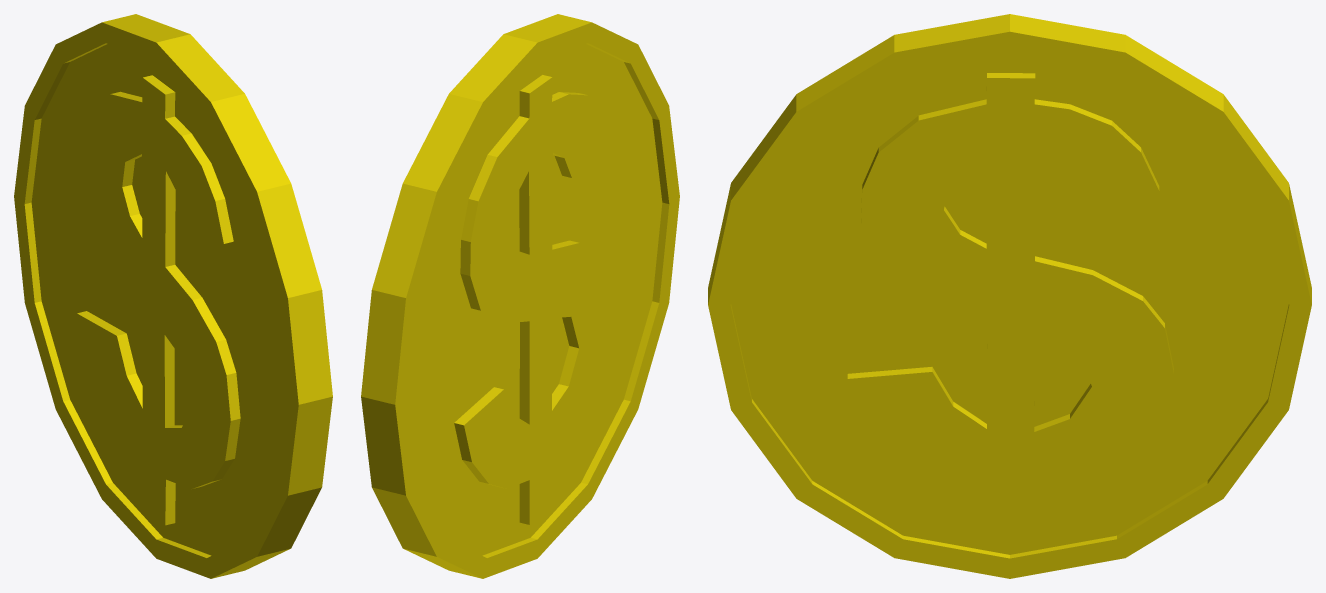
The model's file is money.fbx.
The picture shows the model from 3 angles, left to right: view 1: azimuth 30°, elevation 25°; view 2: azimuth 150°, elevation 25°; view 3: azimuth 270°, elevation 25°; orthographic projection. The views are drawn at different scales.
Parts seen in each view (by area): view 1: 실린더.001; view 2: 실린더.001; view 3: 실린더.001.
Part boxes in pixels (x1,y1,x2,y2): 실린더.001: (14, 14, 332, 578); 실린더.001: (361, 14, 679, 578); 실린더.001: (708, 14, 1311, 578).
Size of the model in its own units: 16.24 by 200 by 200.
